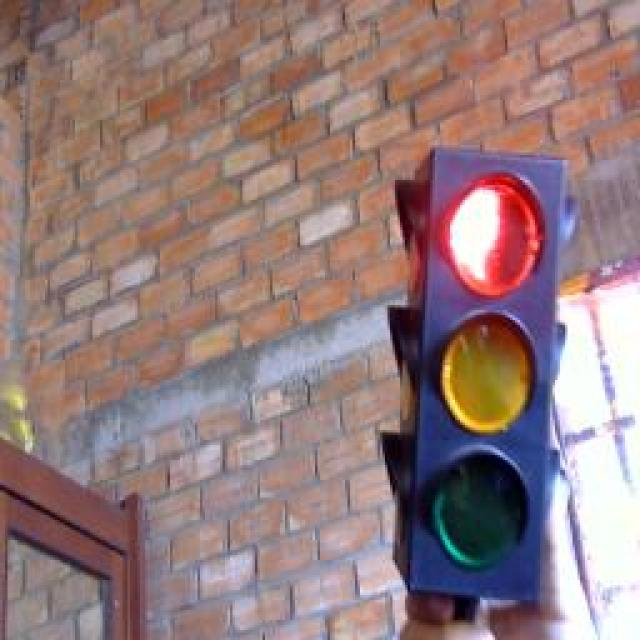-: (438, 155, 556, 310)
